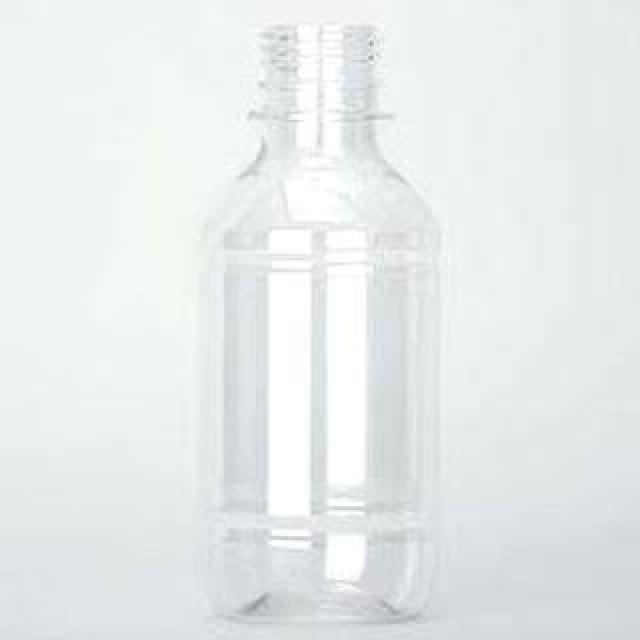Pet_Bottle: (195, 70, 445, 636)
